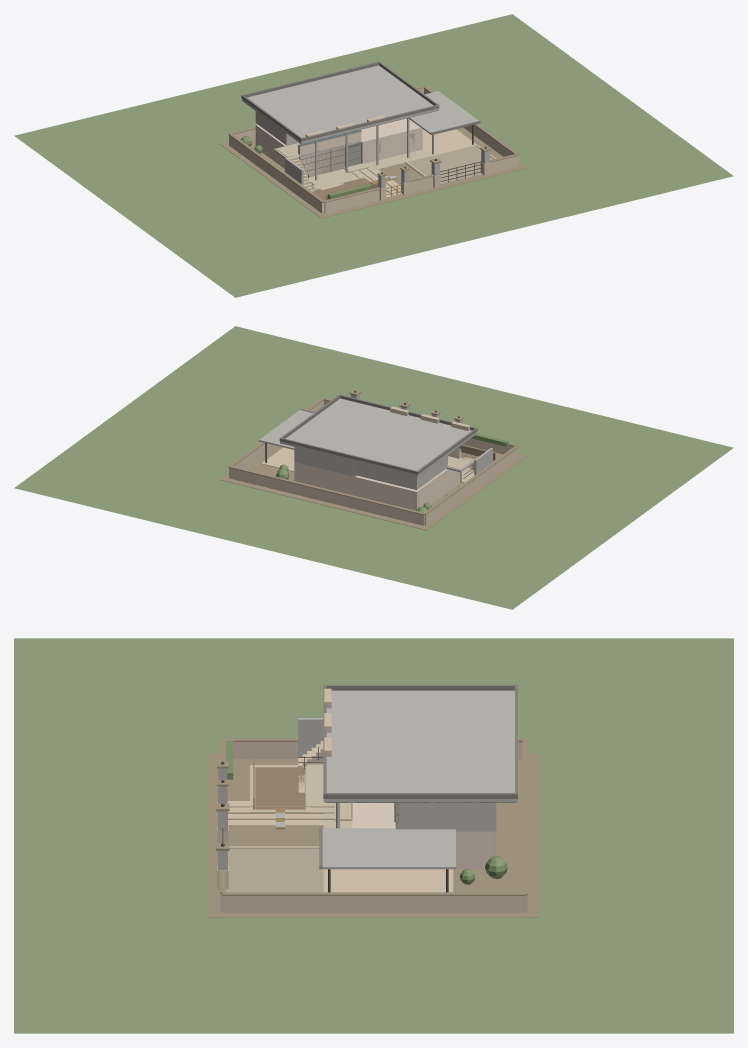
3 renders of one model, top to bottom at view 1: azimuth 30°, elevation 25°; view 2: azimuth 150°, elevation 25°; view 3: azimuth 270°, elevation 25°, orthographic. The views are drawn at different scales.
Visible parts, largest first — view 1: Grass_Ground, Concrete_RoofSlab, Foundation, Plaster_GF_Body, Gravel_Driveway, Concrete_CarportRoof, Plaster_GF_FrontR, PlasterDark_GFReveal, Stone_SiteWallL, Coping_Verandah, Stone_CarportFloor, Stone_FWall_S1 (+5 smaller); view 2: Grass_Ground, Concrete_RoofSlab, Plaster_GF_Body, Foundation, Stone_BackWall, Concrete_LUW_Body, Stone_SiteWallL, Concrete_UB_Body, Concrete_CarportRoof, StoneDk_BackWallCp, ConcDk_ParB, Stone_CarportFloor; view 3: Grass_Ground, Concrete_RoofSlab, Foundation, Concrete_CarportRoof, Stone_SiteWallR, Gravel_Driveway, Stone_CarportFloor, Concrete_UB_Body, Plaster_GF_Body, PoolRim_Shell, Stone_PedForecourt, ConcDk_ParL (+6 smaller).
Boxes of the visible parts, bbox=[...] form: Grass_Ground: bbox=[14, 14, 733, 297]; Concrete_RoofSlab: bbox=[241, 65, 439, 143]; Foundation: bbox=[220, 127, 528, 218]; Plaster_GF_Body: bbox=[255, 118, 422, 177]; Gravel_Driveway: bbox=[405, 145, 493, 184]; Concrete_CarportRoof: bbox=[409, 91, 478, 133]; Plaster_GF_FrontR: bbox=[361, 128, 422, 163]; PlasterDark_GFReveal: bbox=[301, 145, 360, 176]; Stone_SiteWallL: bbox=[229, 135, 324, 213]; Coping_Verandah: bbox=[308, 149, 431, 185]; Stone_CarportFloor: bbox=[422, 129, 476, 155]; Stone_FWall_S1: bbox=[324, 189, 379, 213]; Grass_Ground: bbox=[14, 326, 733, 609]; Concrete_RoofSlab: bbox=[280, 398, 477, 476]; Plaster_GF_Body: bbox=[294, 462, 460, 510]; Foundation: bbox=[219, 444, 527, 530]; Stone_BackWall: bbox=[229, 468, 424, 525]; Concrete_LUW_Body: bbox=[355, 455, 447, 489]; Stone_SiteWallL: bbox=[424, 447, 518, 525]; Concrete_UB_Body: bbox=[294, 447, 356, 476]; Concrete_CarportRoof: bbox=[259, 410, 313, 449]; StoneDk_BackWallCp: bbox=[229, 466, 424, 515]; ConcDk_ParB: bbox=[279, 437, 417, 474]; Stone_CarportFloor: bbox=[261, 447, 294, 471]; Grass_Ground: bbox=[14, 638, 733, 1033]; Concrete_RoofSlab: bbox=[323, 690, 517, 802]; Foundation: bbox=[208, 753, 539, 917]; Concrete_CarportRoof: bbox=[320, 828, 455, 869]; Stone_SiteWallR: bbox=[222, 896, 525, 913]; Gravel_Driveway: bbox=[225, 848, 323, 892]; Stone_CarportFloor: bbox=[323, 869, 453, 892]; Concrete_UB_Body: bbox=[395, 803, 496, 831]; Plaster_GF_Body: bbox=[352, 803, 496, 868]; PoolRim_Shell: bbox=[255, 767, 305, 809]; Stone_PedForecourt: bbox=[228, 801, 323, 826]; ConcDk_ParL: bbox=[323, 684, 517, 690].
Size of the model in its own units: 65 by 7.21 by 50.
